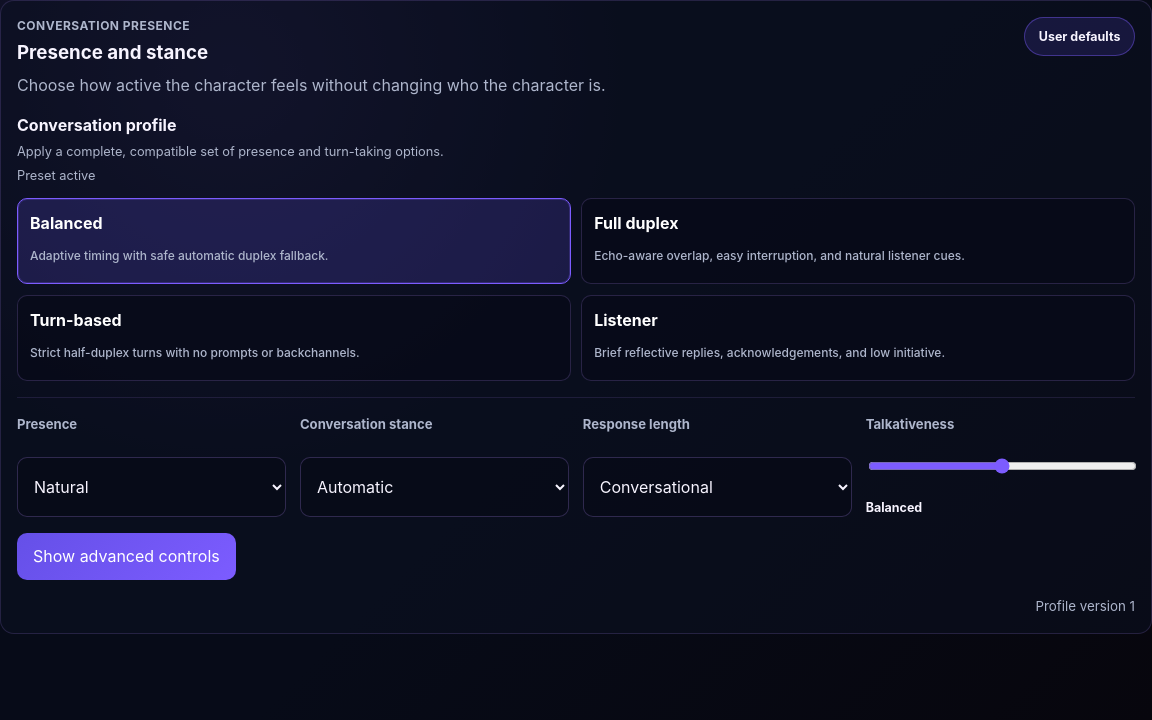
LiveConversationControls › renders the effective server profile and advanced turn-taking controls
This screenshot has width=1152, height=720.
Expected: the dropdown labelled "Presence" shows "Natural", x1=17 y1=457 x2=286 y2=517
Expected: the dropdown labelled "Conversation stance" shows "Automatic", x1=300 y1=457 x2=569 y2=517
Click the button "Show advanced controls". click: coordinates (126, 556)
box: x1=17 y1=533 x2=236 y2=580
(page scrolled)
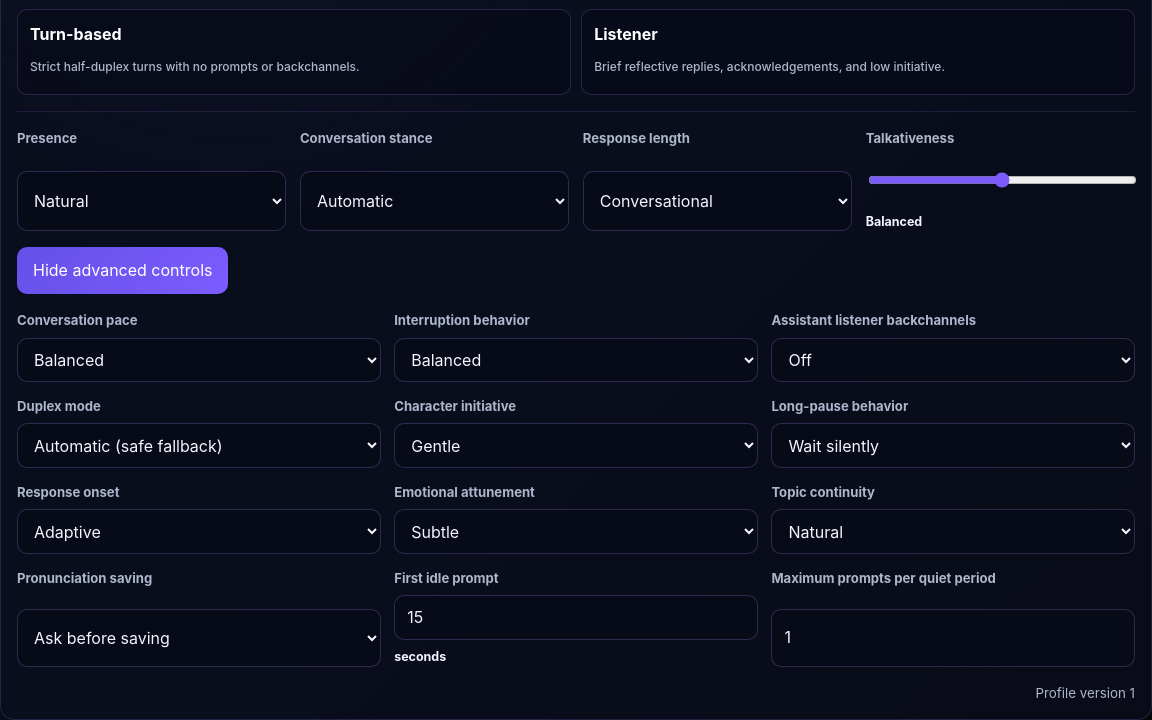
Expected: the dropdown labelled "Conversation pace" shows "Balanced", x1=17 y1=338 x2=381 y2=382
Expected: the dropdown labelled "Assistant listener backchannels" shows "Off", x1=771 y1=338 x2=1135 y2=382
Expected: the dropdown labelled "Response onset" shows "Adaptive", x1=17 y1=509 x2=381 y2=554
